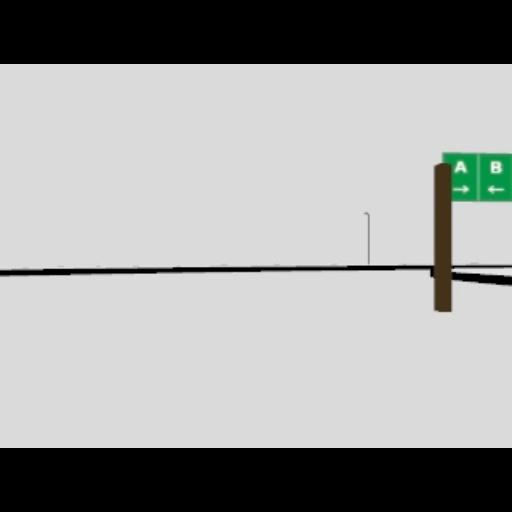A: (454, 160, 468, 174)
B: (490, 160, 502, 174)
Left: (486, 184, 504, 194)
Right: (453, 185, 469, 193)
